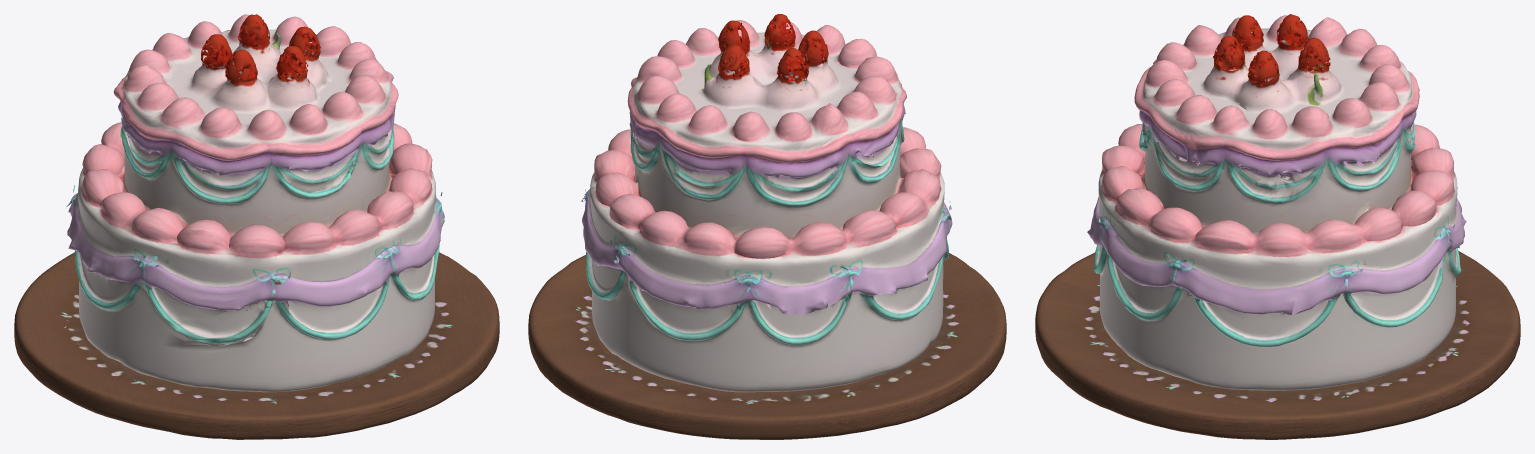
File: cake.glb
3 views of the same model, side by side, from view 1: azimuth 30°, elevation 25°; view 2: azimuth 150°, elevation 25°; view 3: azimuth 270°, elevation 25° (orthographic).
Parts seen in each view (by area): view 1: tripo_node_4b739d40; view 2: tripo_node_4b739d40; view 3: tripo_node_4b739d40.
Part boxes in pixels (box(x1,y1,x2,y2)): tripo_node_4b739d40: box(14, 14, 499, 439); tripo_node_4b739d40: box(528, 14, 1006, 439); tripo_node_4b739d40: box(1035, 14, 1520, 439).
Bounding box in the file's own units: 5.44 × 3.84 × 5.44.
Materials: 1 (1 with a texture image).
